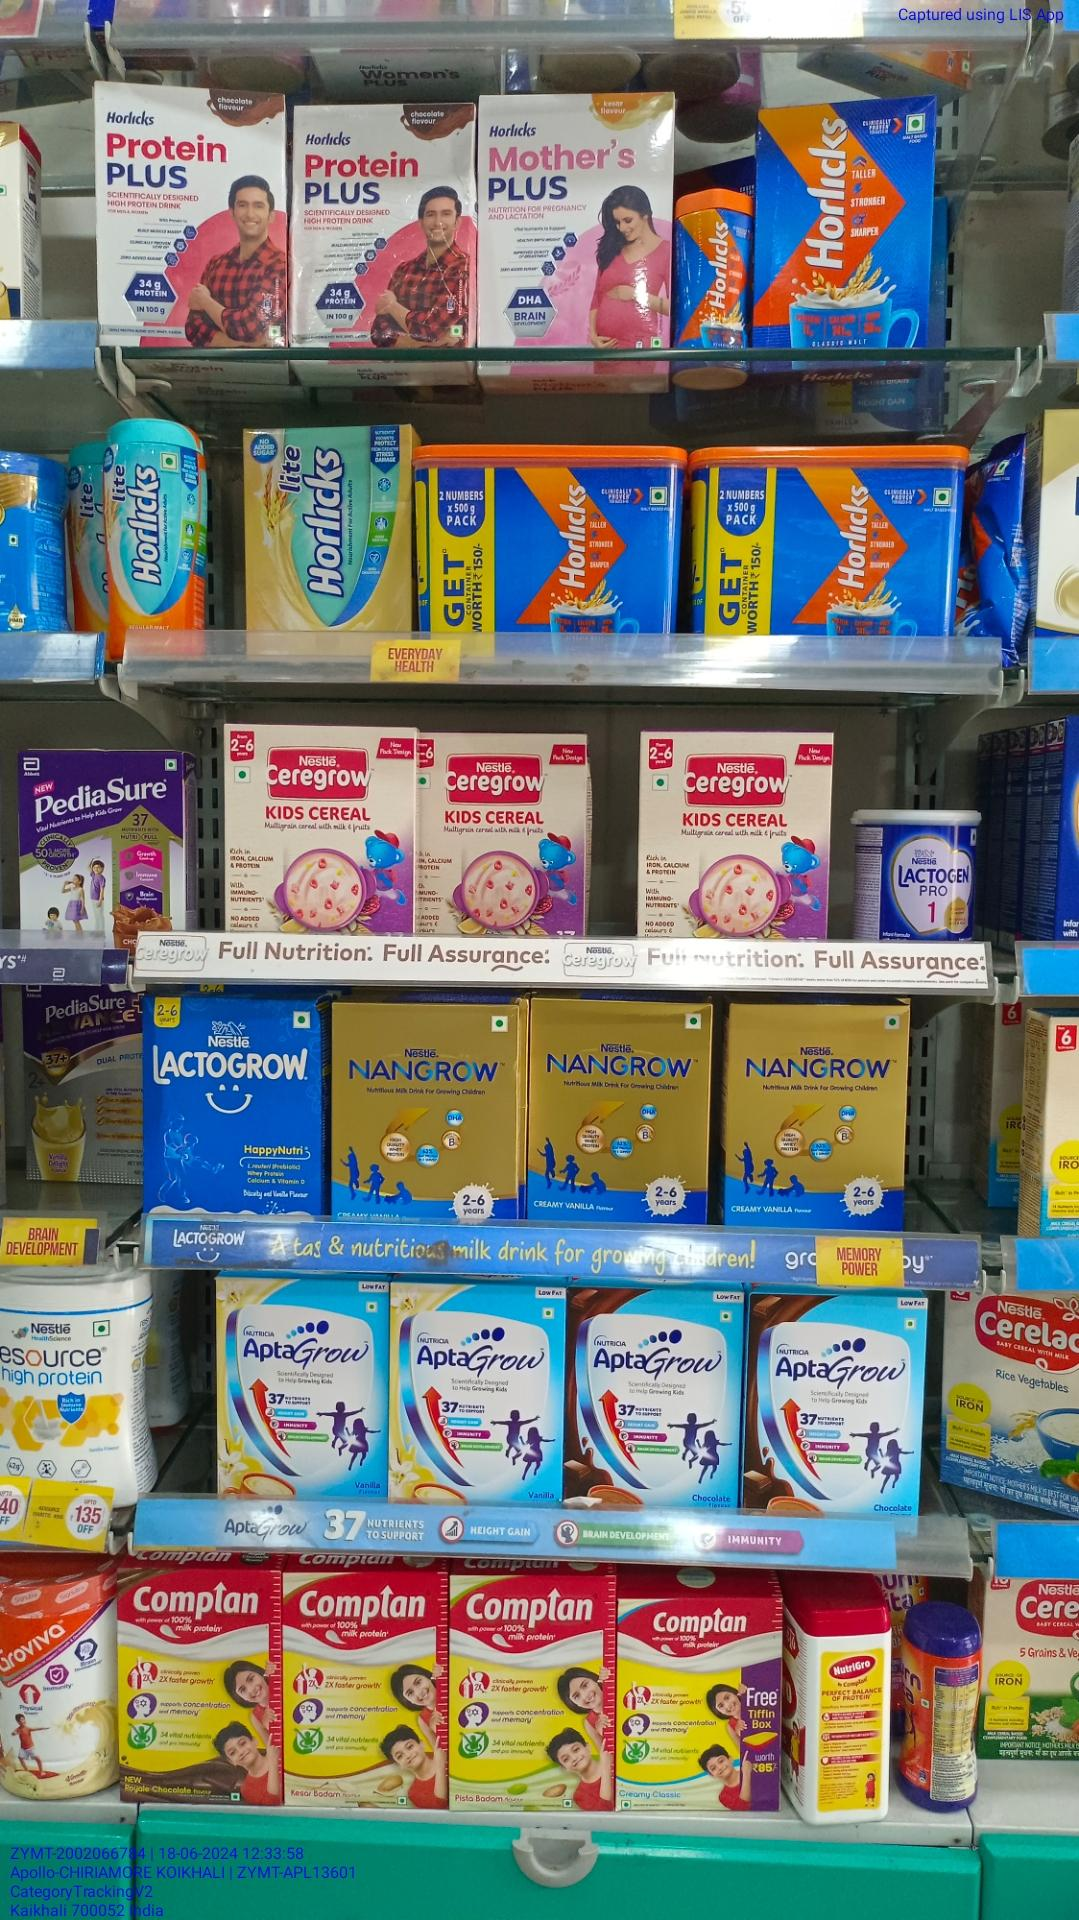COMPLAN_CHOCOLATE_500_GMS_PACK: (119, 1568, 281, 1807)
COMPLAN_CREAMY_CLASSIC_500_G_PACK: (619, 1597, 777, 1809)
COMPLAN_KESAR_BADAM_500_GMS_PACK: (285, 1571, 446, 1807)
COMPLAN_PISTA_BADAM_500_GMS_PACK: (451, 1577, 615, 1813)
HORLICKS_LITE_REGULAR_MALT_500_GM_JAR: (104, 426, 204, 628)
HORLICK_CLASSIC_MALT_200_G_JAR: (674, 189, 751, 349)
HORLICK_CLASSIC_MALT_500_G_PACK: (758, 105, 931, 345)
HORLICK_MALT_1_KG_CONTAINER: (689, 450, 956, 637), (418, 443, 682, 633)
PEDIASURE_CHOCOLATE_500_G_PACK: (18, 749, 186, 930)
